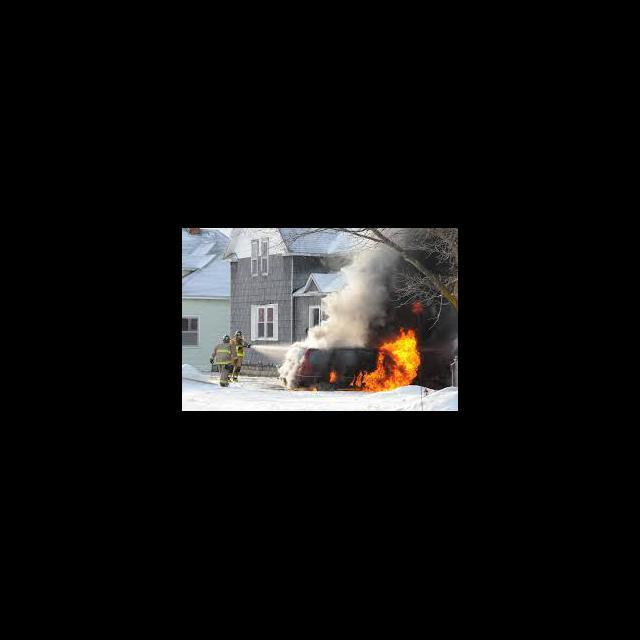Fire: (348, 330, 422, 393), (411, 300, 423, 314), (326, 369, 336, 384)
Smoke: (306, 282, 380, 350), (346, 229, 426, 286), (280, 341, 308, 390)
